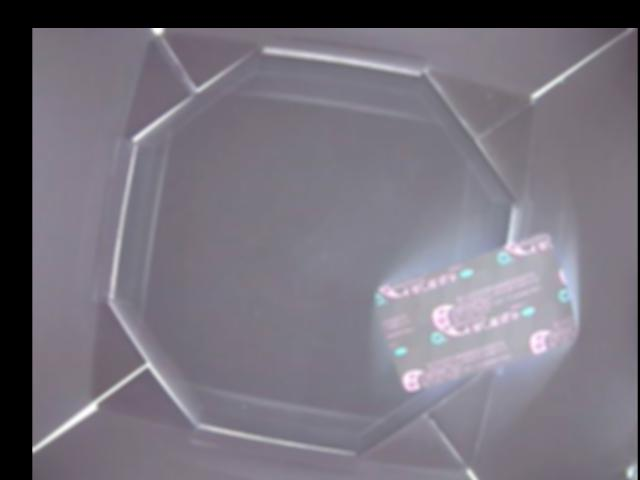Medicine: (374, 234, 577, 392)
